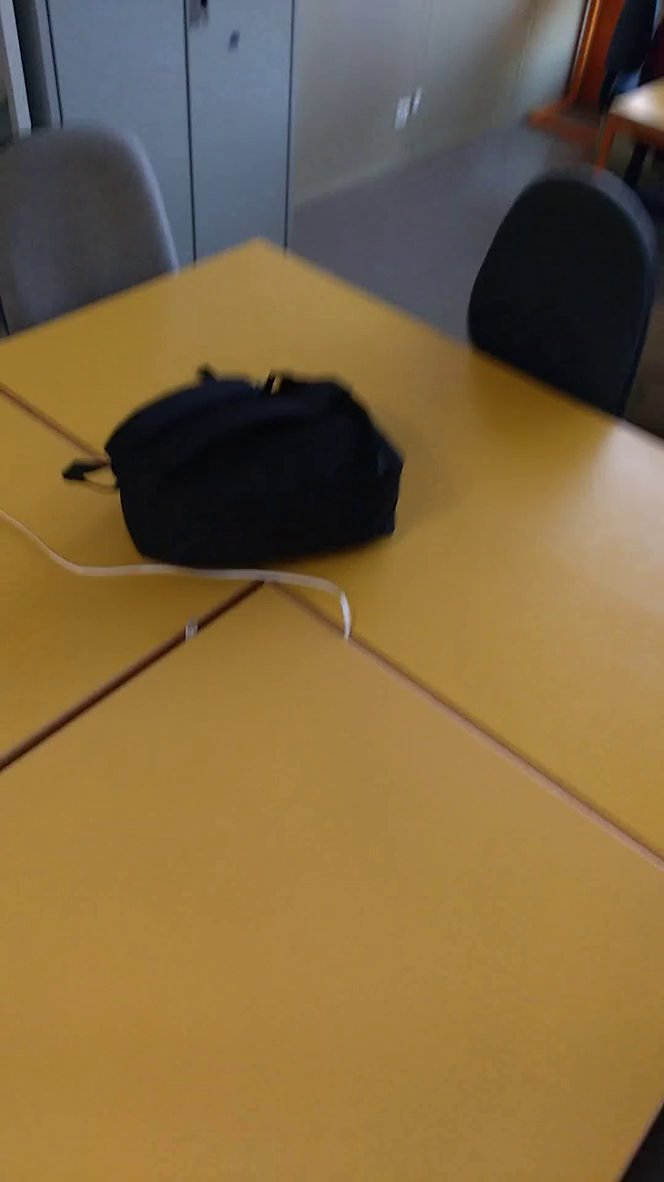bag: (55, 353, 412, 580)
chair: (462, 152, 664, 436), (2, 116, 203, 346)
